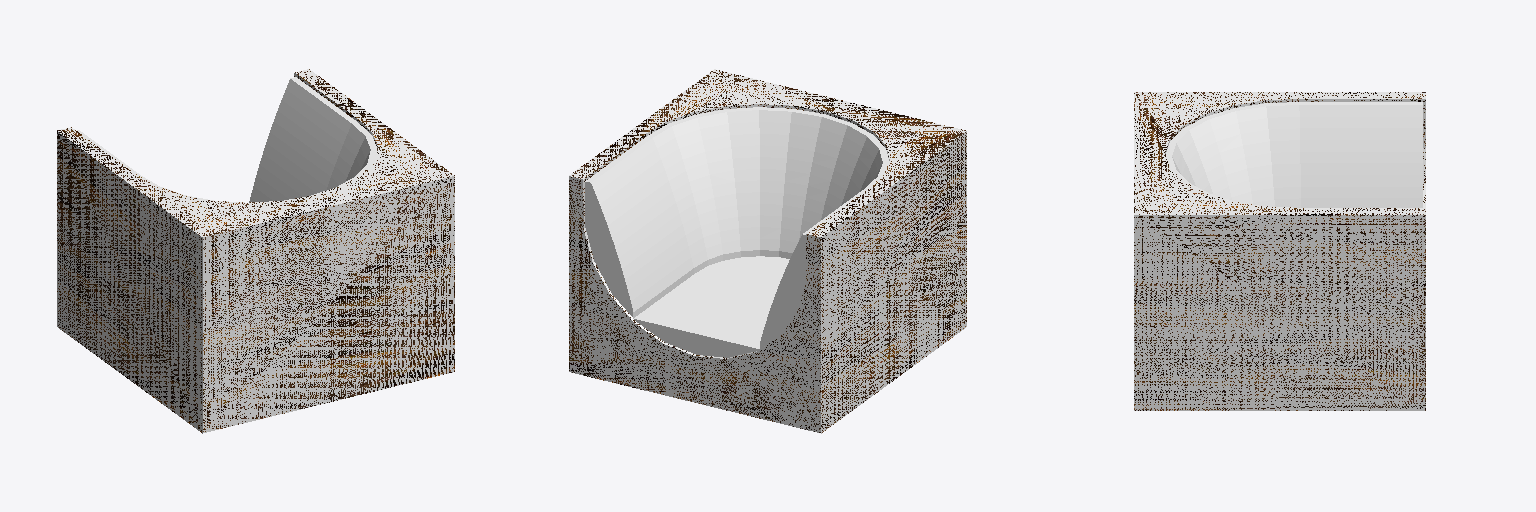
3 views of the same model, side by side, from view 1: azimuth 30°, elevation 25°; view 2: azimuth 150°, elevation 25°; view 3: azimuth 270°, elevation 25° (orthographic).
Parts seen in each view (by area): view 1: mesh1_mesh1-geometry; view 2: mesh1_mesh1-geometry; view 3: mesh1_mesh1-geometry.
Boxes of the visible parts, <box> form: mesh1_mesh1-geometry: <box>57,69,454,433</box>; mesh1_mesh1-geometry: <box>569,69,966,433</box>; mesh1_mesh1-geometry: <box>1134,92,1425,410</box>.
Bounding box in the file's own units: 0.6195 × 0.4811 × 0.6203.
3 materials, 1 textured.